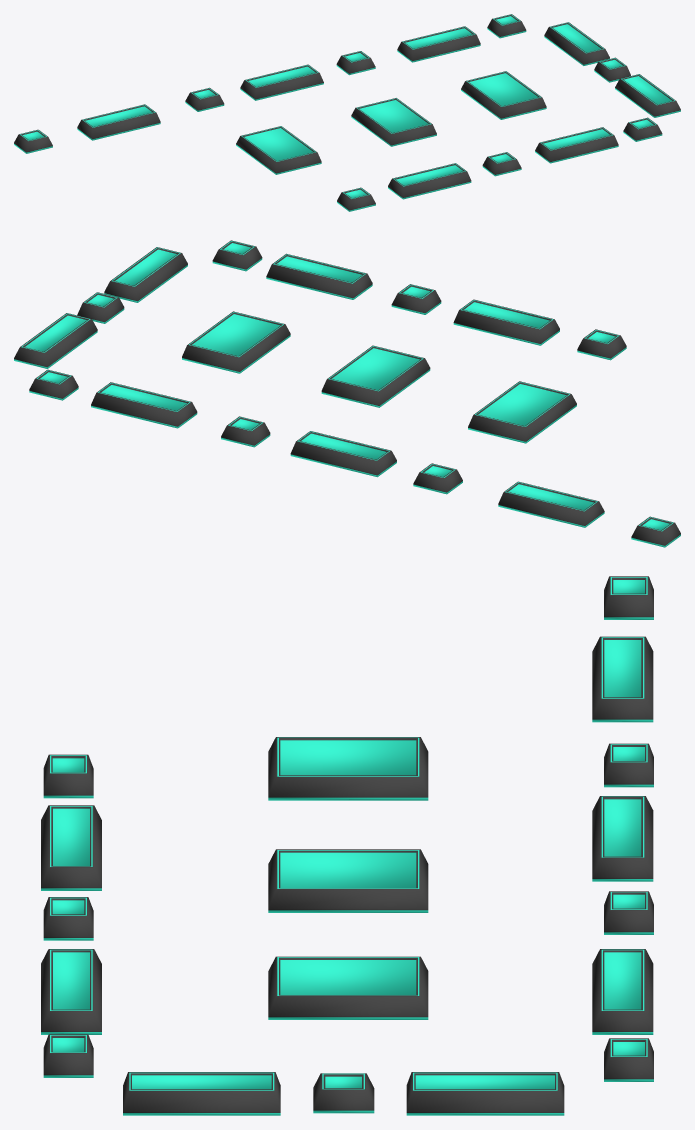
The model's file is theta-nft-stands.glb.
3 views of the same model, one above another, from view 1: azimuth 30°, elevation 25°; view 2: azimuth 150°, elevation 25°; view 3: azimuth 270°, elevation 25° (orthographic). The views are drawn at different scales.
Parts seen in each view (by area): view 1: Theta; view 2: Theta; view 3: Theta.
Part boxes in pixels (x1,y1,x2,y2): Theta: [14, 14, 680, 211]; Theta: [14, 240, 680, 547]; Theta: [41, 576, 653, 1115].
Size of what is drawn, in the model's own units: 49.75 by 0.9442 by 24.73.
